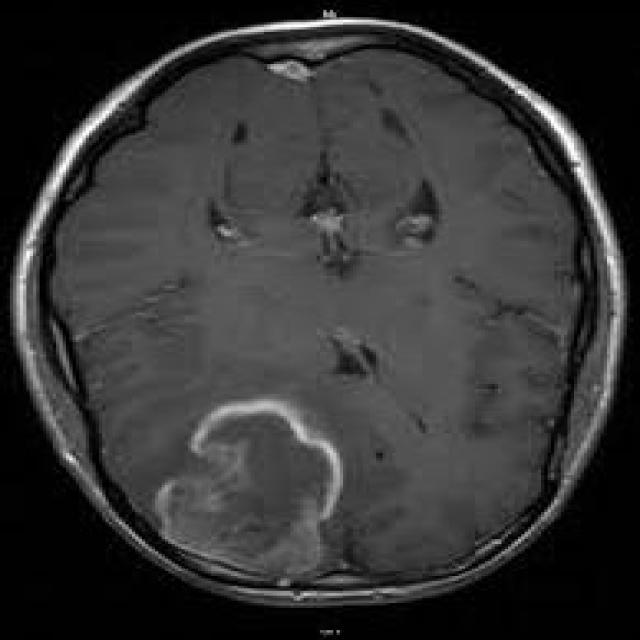brain tumor: (155, 401, 340, 583)
